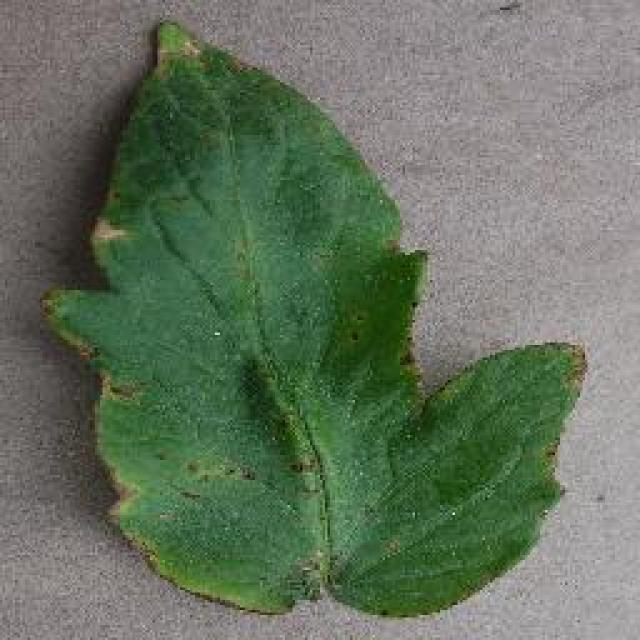Tomato___Bacterial_spot: (35, 17, 590, 627)
